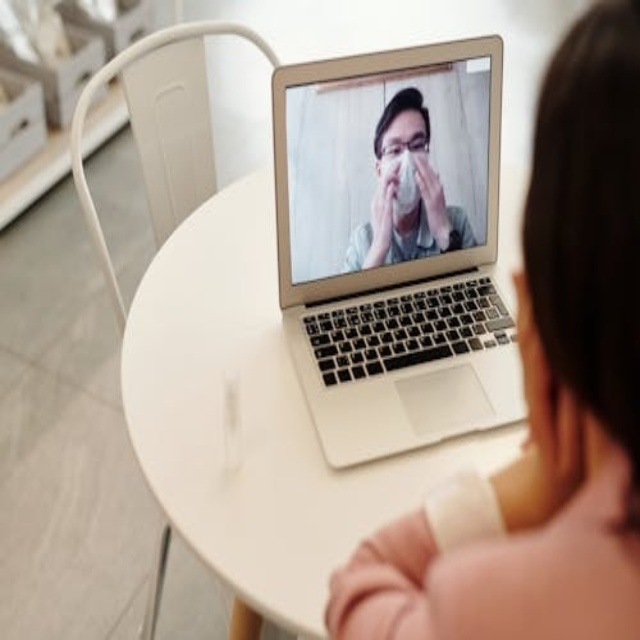Mascara: (386, 152, 420, 212)
Sin_guantes: (409, 150, 450, 233), (368, 166, 403, 253)
